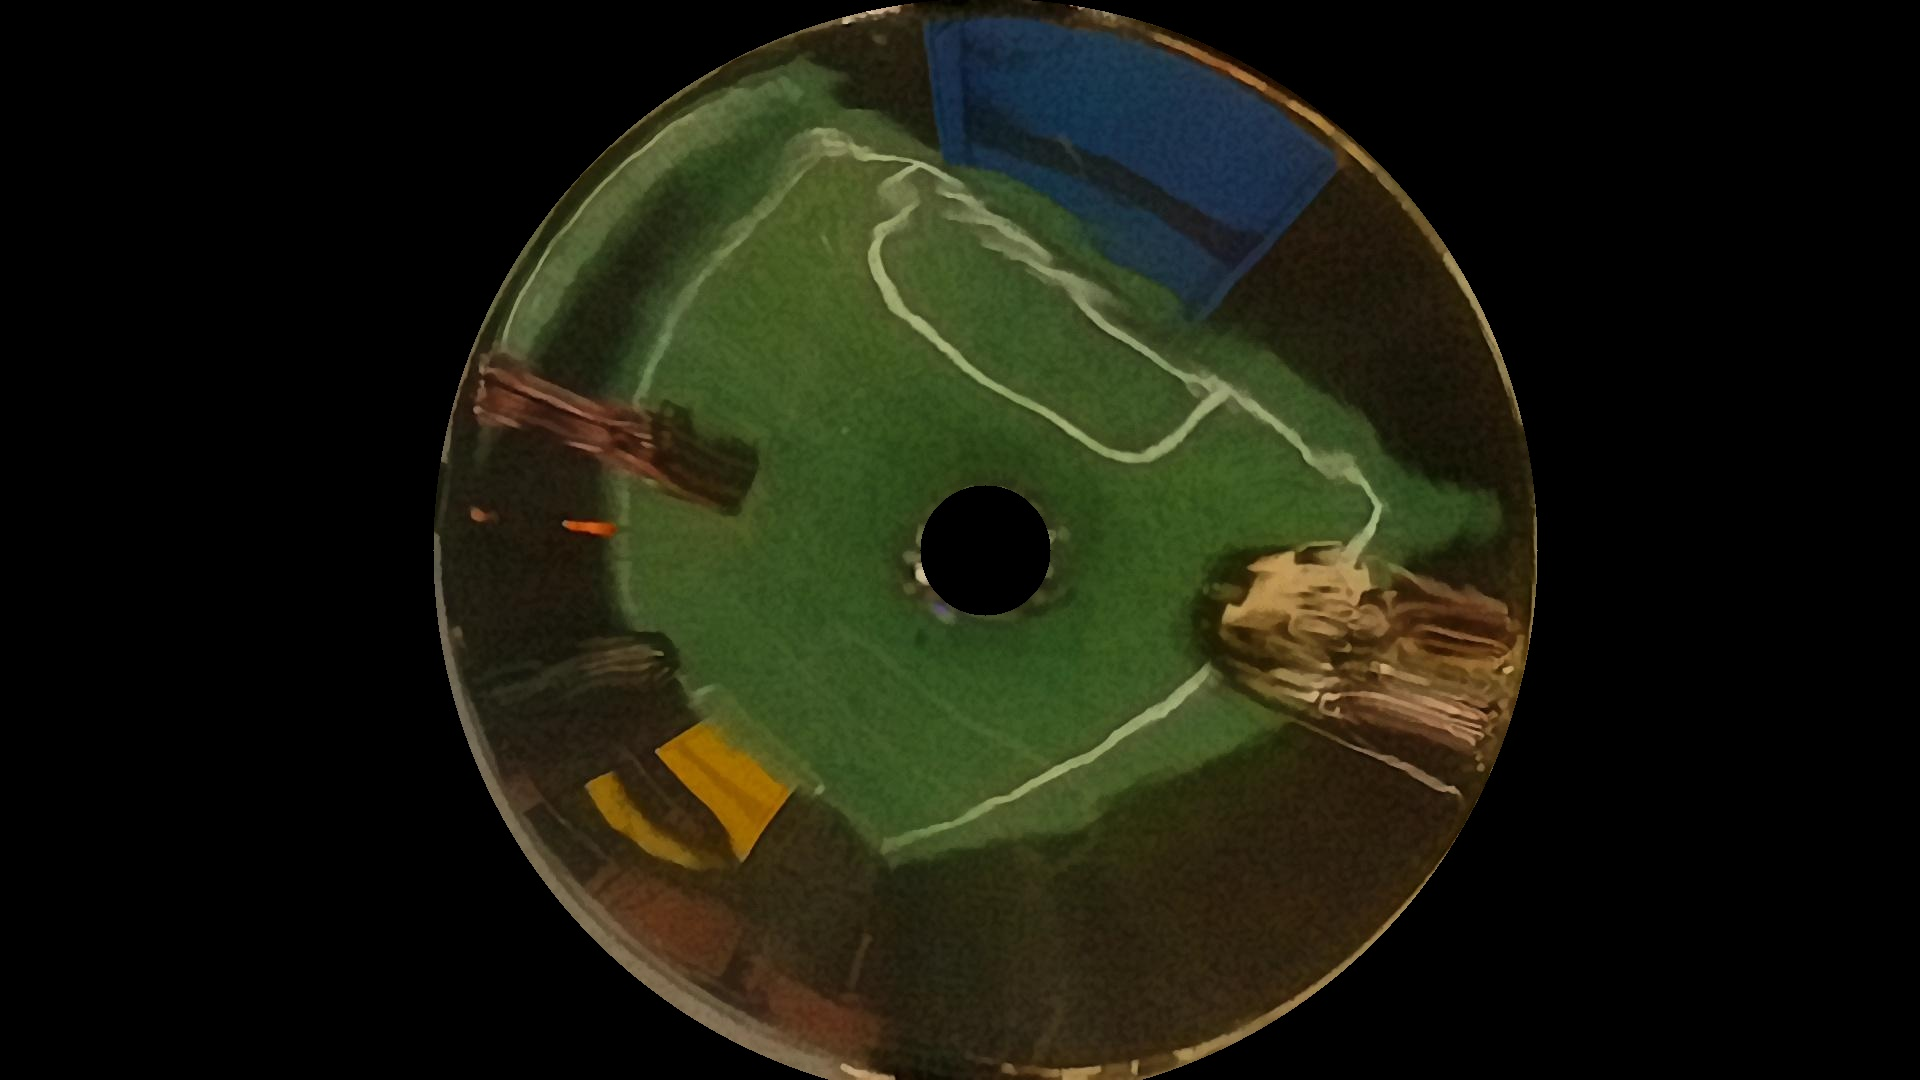ball: (564, 518, 620, 535)
blue-goal: (928, 15, 1352, 322)
robots: (1192, 538, 1526, 794), (477, 351, 733, 508), (471, 634, 679, 707)
yellow-goal: (591, 719, 804, 881)
